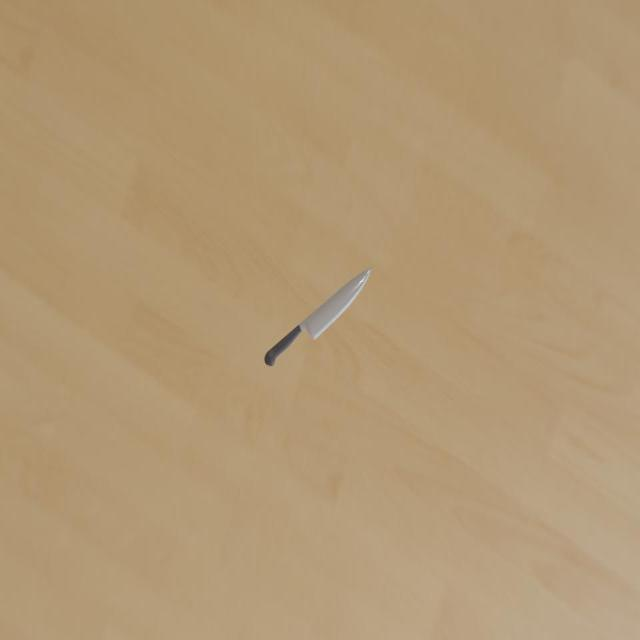knife: (264, 324, 302, 366)
